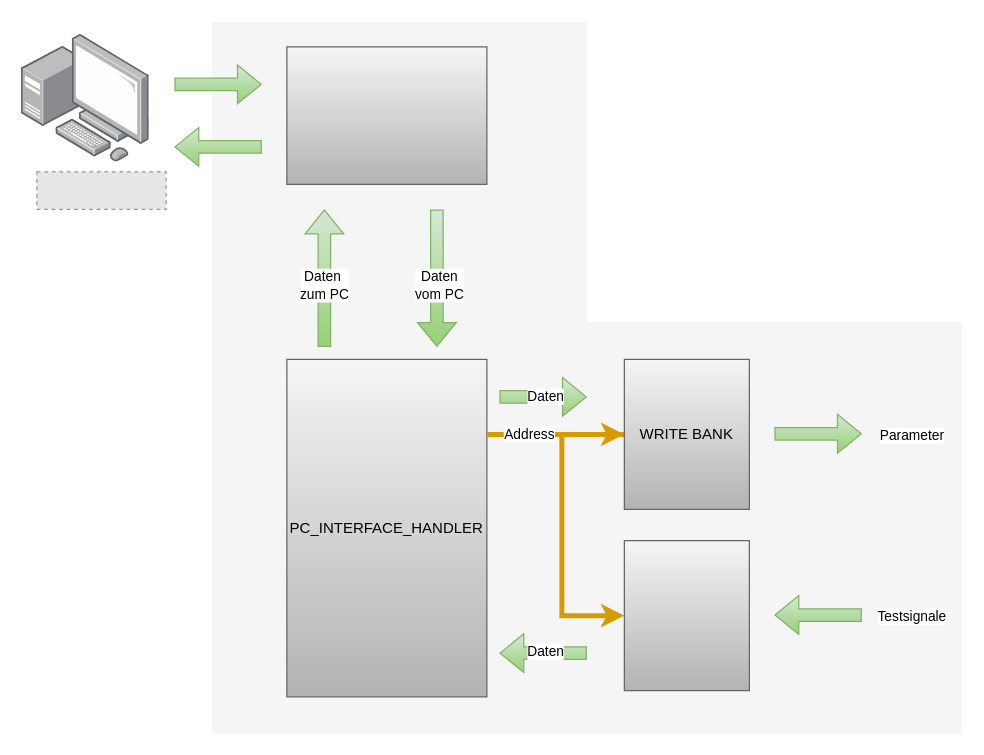
The diagram is 984 pixels wide and 755 high, and some of its shapes have lost their labels. Grey dashed boxes stand in for pictures. Each missing label, with the centre of its shape:
"PC_INTERFACE (UART)" belongs at (386,115).
"READ BANK" belongs at (686,615).
